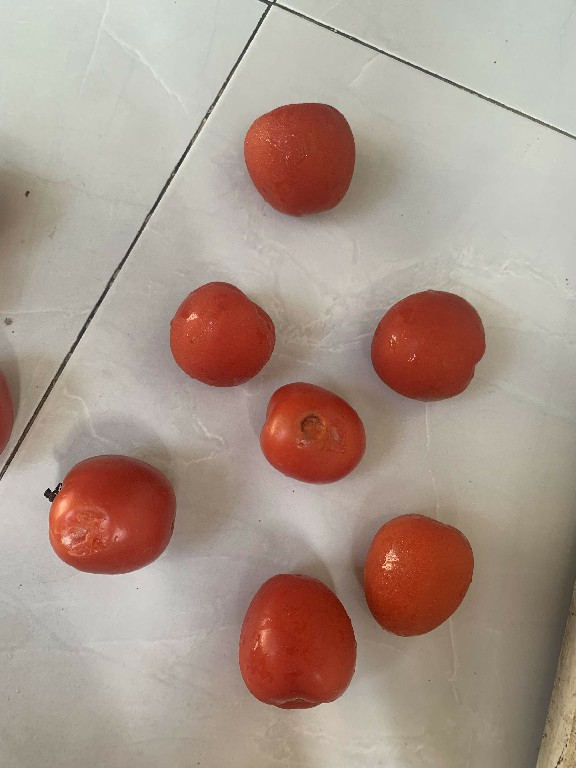NG: (26, 444, 184, 584), (260, 381, 374, 496)
OK: (228, 557, 357, 713), (368, 269, 498, 413), (358, 516, 484, 652), (236, 93, 366, 223), (144, 272, 285, 387)
